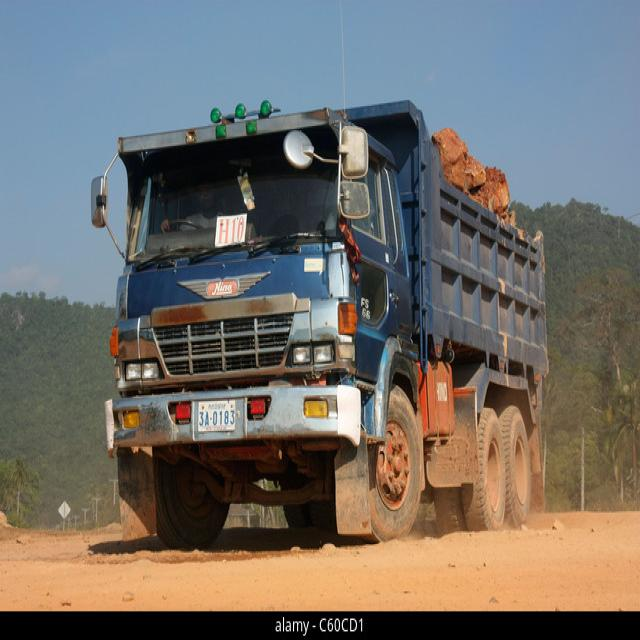goods: (434, 129, 514, 220)
truck: (92, 102, 547, 551)
